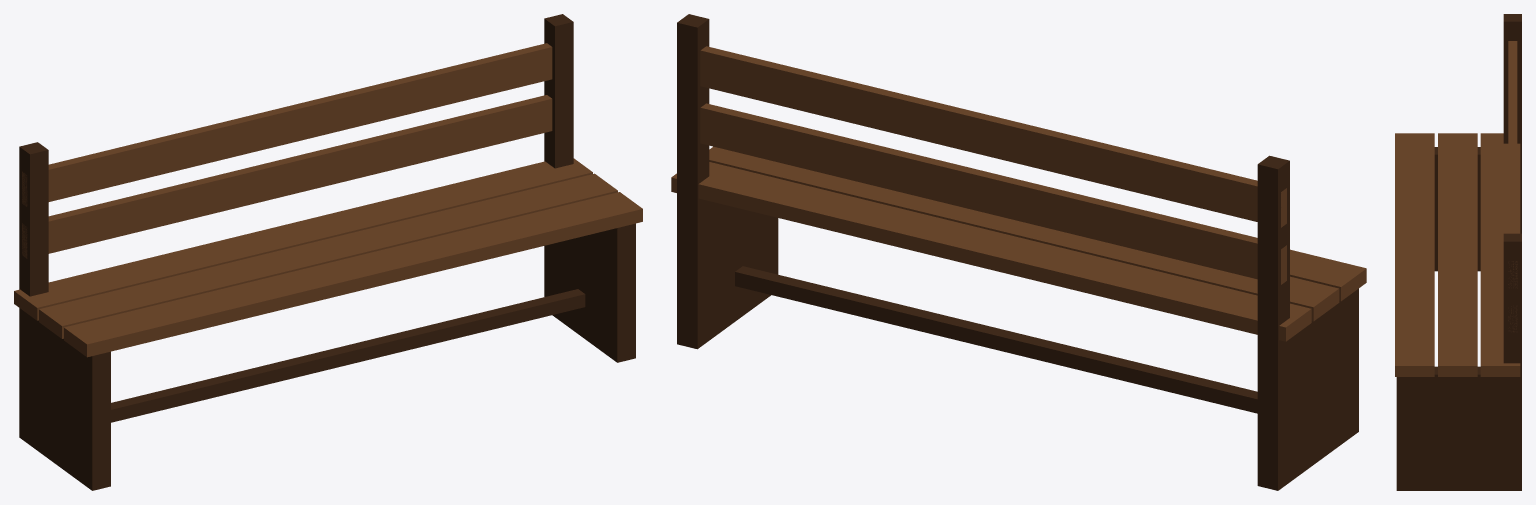
Rendered from SM_Porch_Bench.obj.
3 renders of one model, left to right at view 1: azimuth 30°, elevation 25°; view 2: azimuth 150°, elevation 25°; view 3: azimuth 270°, elevation 25°, orthographic. The views are drawn at different scales.
Visible parts, largest first — view 1: SM_Porch_Bench; view 2: SM_Porch_Bench; view 3: SM_Porch_Bench.
Part boxes in pixels (x1=…): SM_Porch_Bench: x1=14, y1=14, x2=642, y2=490; SM_Porch_Bench: x1=671, y1=14, x2=1366, y2=490; SM_Porch_Bench: x1=1395, y1=14, x2=1521, y2=490.
Size of the model in its own units: 1.8 by 0.9 by 0.415.
